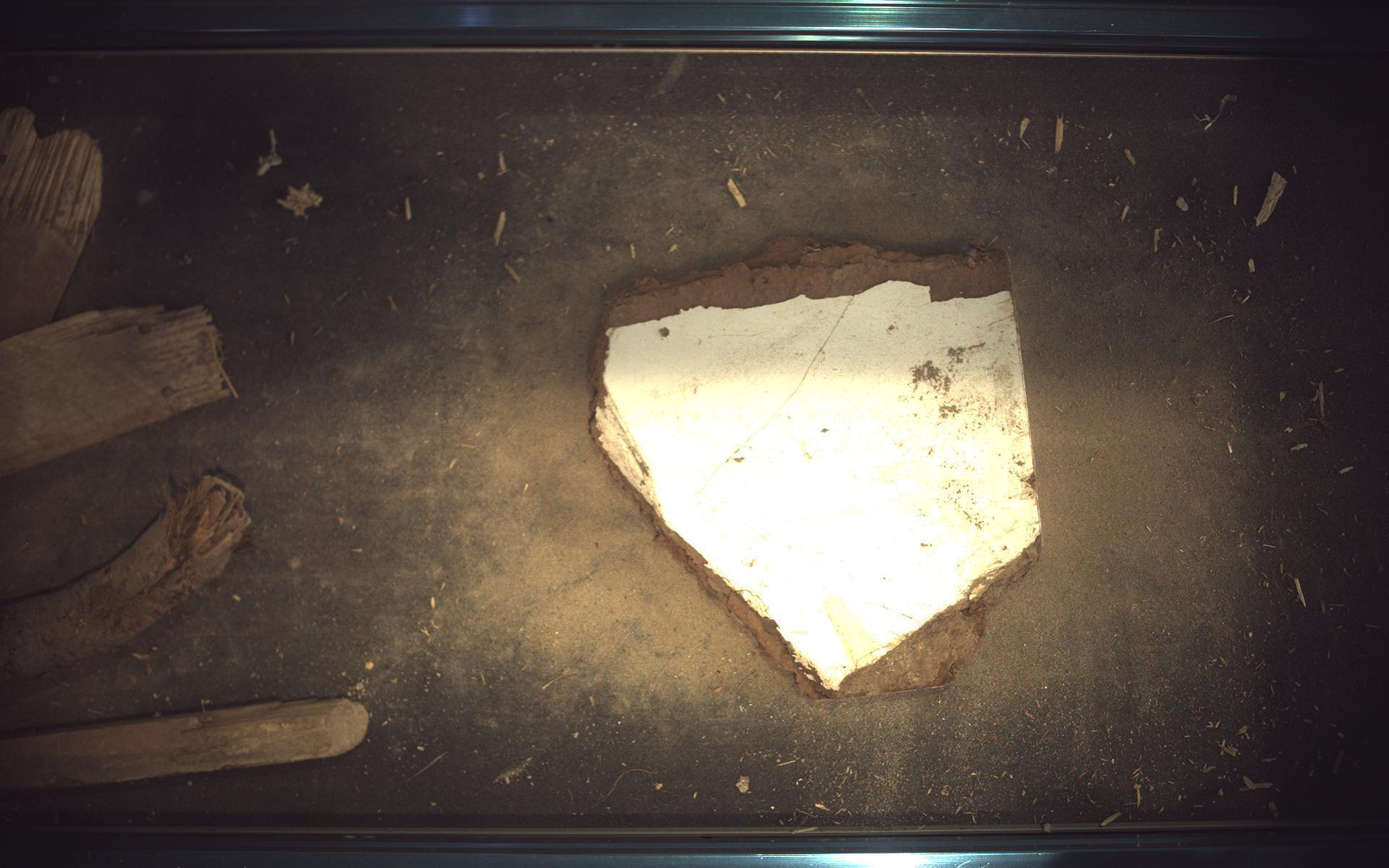wood: (593, 238, 1042, 698), (1, 475, 250, 682), (2, 305, 235, 476), (1, 699, 368, 793), (1, 106, 101, 339)
